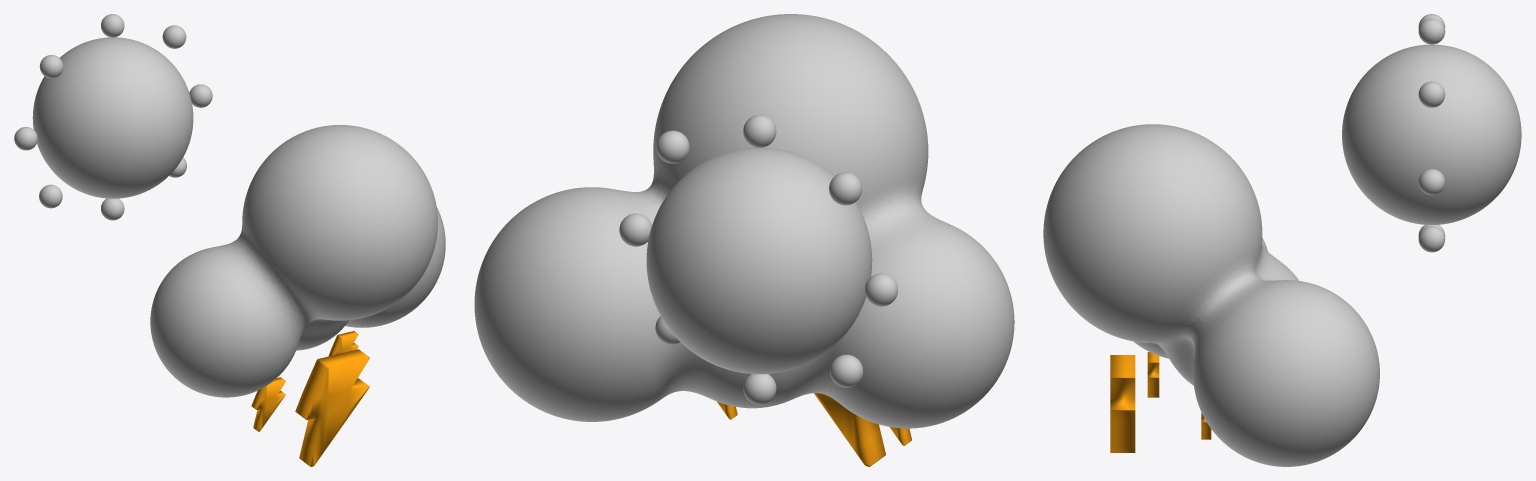
Rendered from day8.obj.
3 renders of one model, left to right at view 1: azimuth 30°, elevation 25°; view 2: azimuth 150°, elevation 25°; view 3: azimuth 270°, elevation 25°, orthographic. The views are drawn at different scales.
Visible parts, largest first — view 1: Mball.022_Mesh.012, Sphere.114_Sphere.040, Plane.005, Sphere.115_Sphere.041, Plane.010_Plane.007, Plane.009_Plane.006; view 2: Mball.022_Mesh.012, Sphere.114_Sphere.040, Sphere.115_Sphere.041, Plane.005; view 3: Mball.022_Mesh.012, Sphere.114_Sphere.040, Plane.005, Sphere.115_Sphere.041, Plane.010_Plane.007.
Part boxes in pixels (bbox=[...]): Mball.022_Mesh.012: bbox=[150, 125, 445, 397]; Sphere.114_Sphere.040: bbox=[32, 37, 193, 198]; Plane.005: bbox=[295, 349, 369, 466]; Sphere.115_Sphere.041: bbox=[14, 14, 212, 220]; Plane.010_Plane.007: bbox=[251, 377, 285, 431]; Plane.009_Plane.006: bbox=[328, 331, 358, 356]; Mball.022_Mesh.012: bbox=[474, 14, 1014, 428]; Sphere.114_Sphere.040: bbox=[646, 147, 872, 374]; Sphere.115_Sphere.041: bbox=[619, 114, 897, 404]; Plane.005: bbox=[814, 393, 885, 466]; Mball.022_Mesh.012: bbox=[1043, 124, 1379, 466]; Sphere.114_Sphere.040: bbox=[1342, 44, 1521, 224]; Plane.005: bbox=[1110, 355, 1135, 452]; Sphere.115_Sphere.041: bbox=[1418, 14, 1445, 252]; Plane.010_Plane.007: bbox=[1147, 352, 1159, 397].
Bounding box in the file's own units: 5.01 × 4.87 × 5.24.
